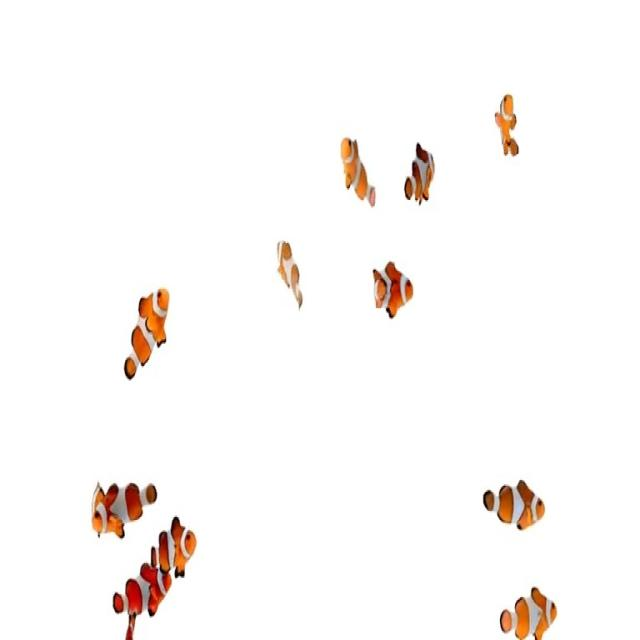fish: (122, 278, 173, 387), (92, 465, 164, 536), (367, 240, 421, 330), (399, 120, 444, 221), (110, 565, 174, 630), (496, 575, 557, 640), (484, 472, 546, 534), (336, 119, 378, 210), (492, 82, 530, 179), (277, 226, 309, 322), (148, 518, 200, 576)
